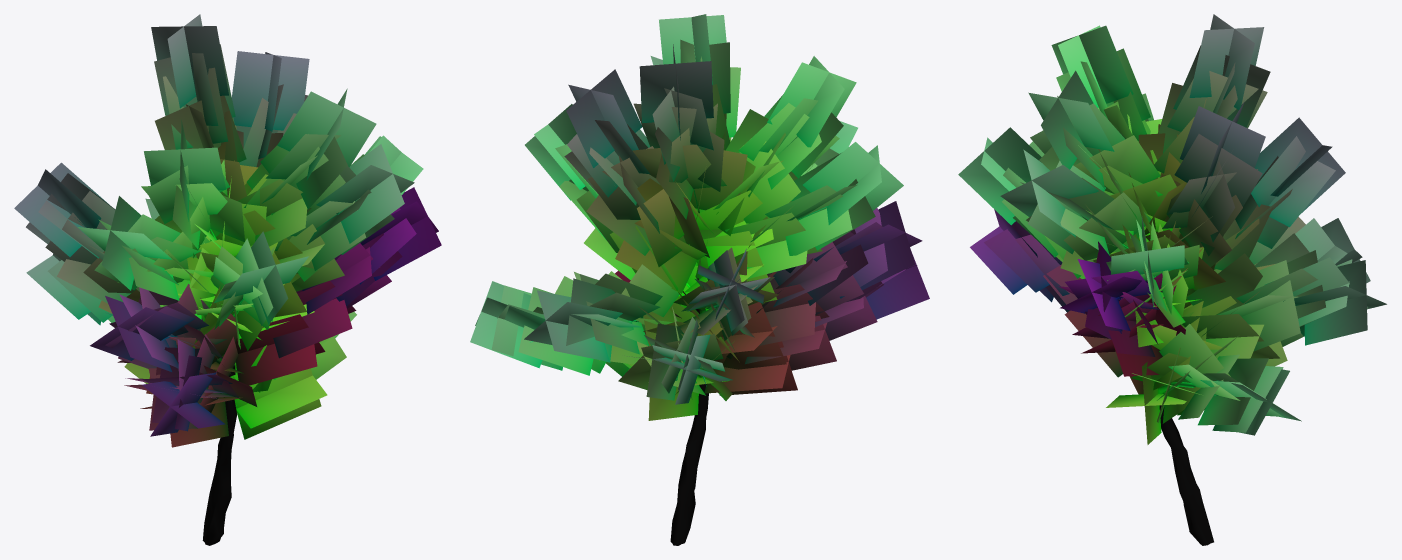
The model's file is M_P6_Tree_13.fbx.
3 views of the same model, side by side, from view 1: azimuth 30°, elevation 25°; view 2: azimuth 150°, elevation 25°; view 3: azimuth 270°, elevation 25° (orthographic). The views are drawn at different scales.
Parts seen in each view (by area): view 1: Tree_13; view 2: Tree_13; view 3: Tree_13.
Part boxes in pixels (x1,y1,x2,y2): Tree_13: (14,14,441,545); Tree_13: (470,14,929,545); Tree_13: (958,14,1386,545).
Size of the model in its own units: 867 by 1160 by 877.
